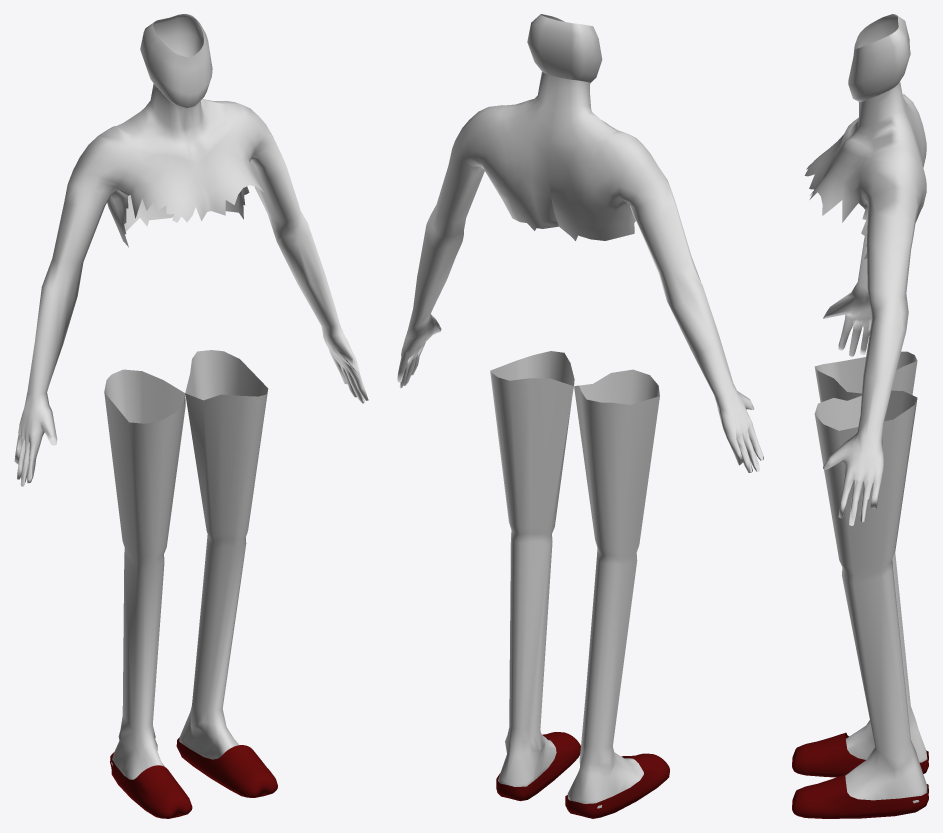
Rendered from Minnie_Body.fbx.
3 renders of one model, left to right at view 1: azimuth 30°, elevation 25°; view 2: azimuth 150°, elevation 25°; view 3: azimuth 270°, elevation 25°, orthographic. The views are drawn at different scales.
Visible parts, largest first — view 1: polySurface33, pPipe1; view 2: polySurface33, pPipe1; view 3: polySurface33, pPipe1.
Part boxes in pixels (x1,y1,x2,y2): polySurface33: (14,14,368,779); pPipe1: (110,737,277,818); polySurface33: (397,14,763,808); pPipe1: (496,732,669,818); polySurface33: (804,14,927,803); pPipe1: (792,732,928,818).
Bounding box in the file's own units: 16.04 × 33.64 × 5.42.
